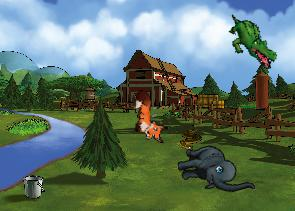crocodile: (217, 12, 286, 71)
elephant: (173, 135, 255, 207)
fox: (132, 90, 169, 143)
